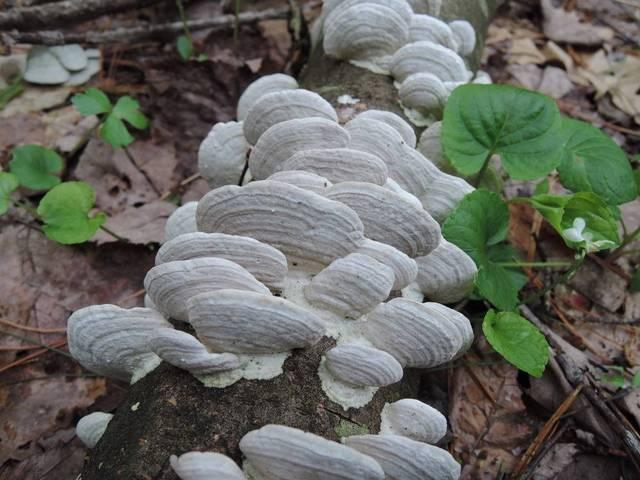poisonous_mushroom: (65, 70, 481, 410)
